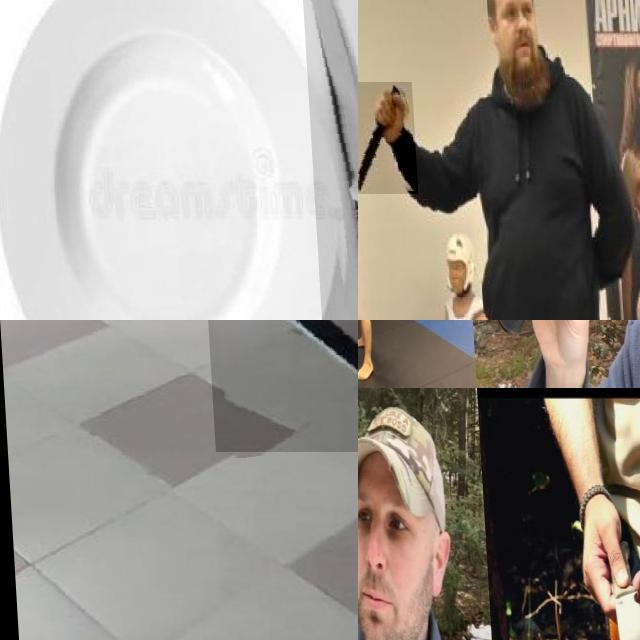-: (200, 320, 358, 452), (298, 0, 358, 320), (358, 389, 421, 640), (530, 320, 640, 419), (574, 533, 640, 640), (358, 82, 413, 194), (358, 320, 366, 343)
